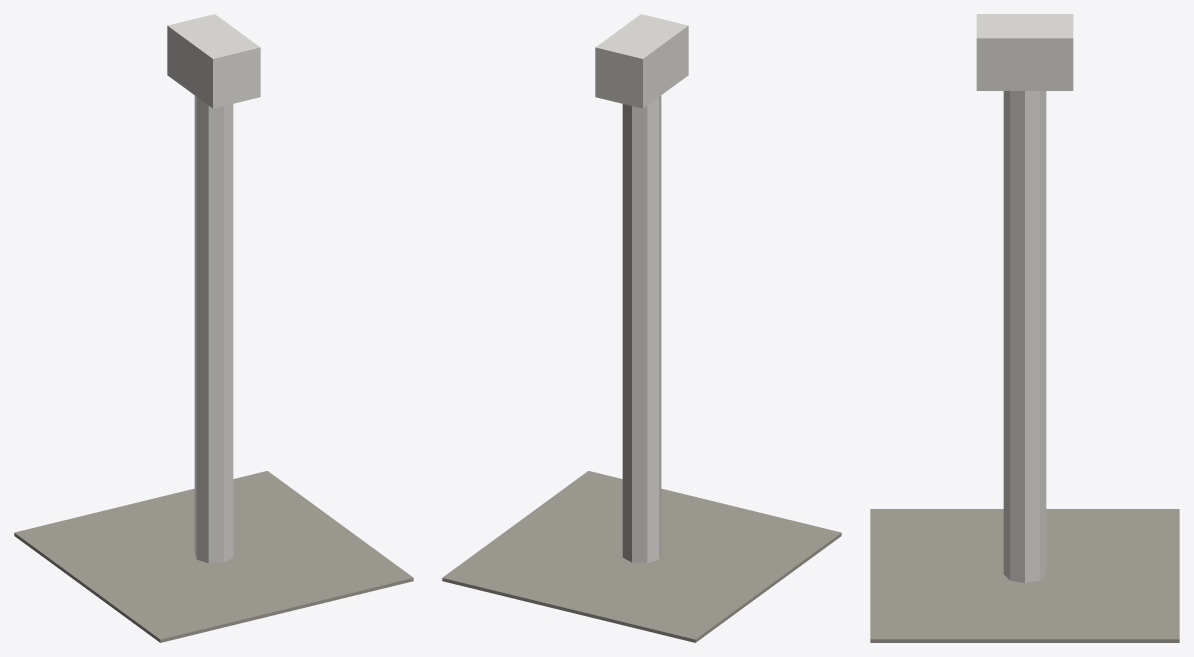
File: civic-atlas.glb
3 views of the same model, side by side, from view 1: azimuth 30°, elevation 25°; view 2: azimuth 150°, elevation 25°; view 3: azimuth 270°, elevation 25° (orthographic). The views are drawn at different scales.
Parts seen in each view (by area): view 1: atlas; view 2: atlas; view 3: atlas.
Part boxes in pixels (box(x1,y1,x2,y2)): atlas: box(14, 14, 413, 642); atlas: box(442, 14, 841, 642); atlas: box(870, 14, 1179, 642).
Size of the model in its own units: 16 by 31.5 by 16.
Materials: 1 (1 with a texture image).
